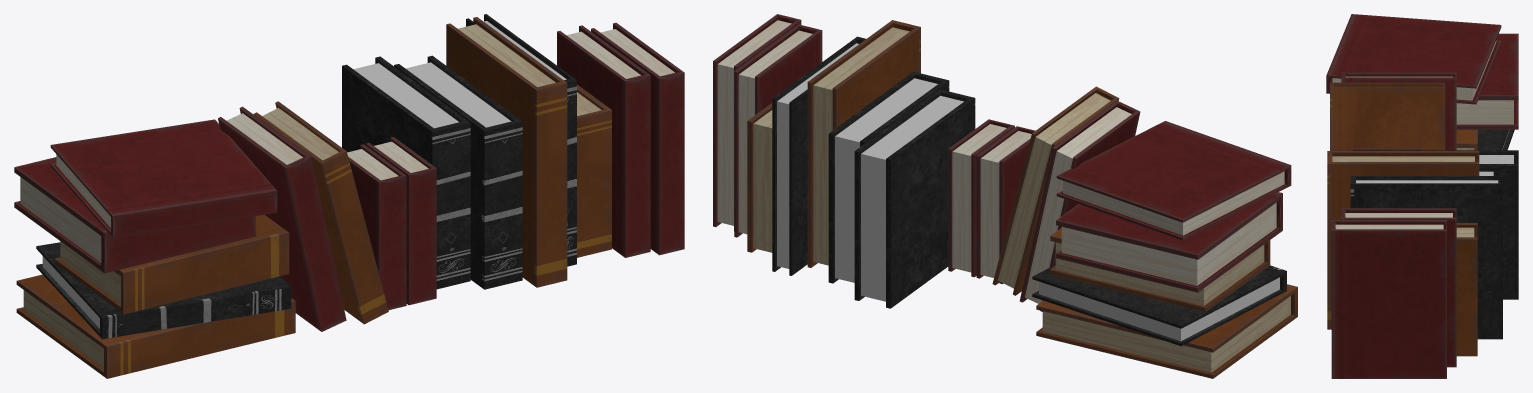
The model's file is BookShelf_ShelfRow_03.fbx.
3 views of the same model, side by side, from view 1: azimuth 30°, elevation 25°; view 2: azimuth 150°, elevation 25°; view 3: azimuth 270°, elevation 25° (orthographic). The views are drawn at different scales.
Parts seen in each view (by area): view 1: polySurface194; view 2: polySurface194; view 3: polySurface194.
Part boxes in pixels (x1,y1,x2,y2): polySurface194: [14, 14, 684, 378]; polySurface194: [713, 14, 1297, 378]; polySurface194: [1326, 14, 1518, 378].
Bounding box in the file's own units: 3.1 × 1.03 × 1.08.
